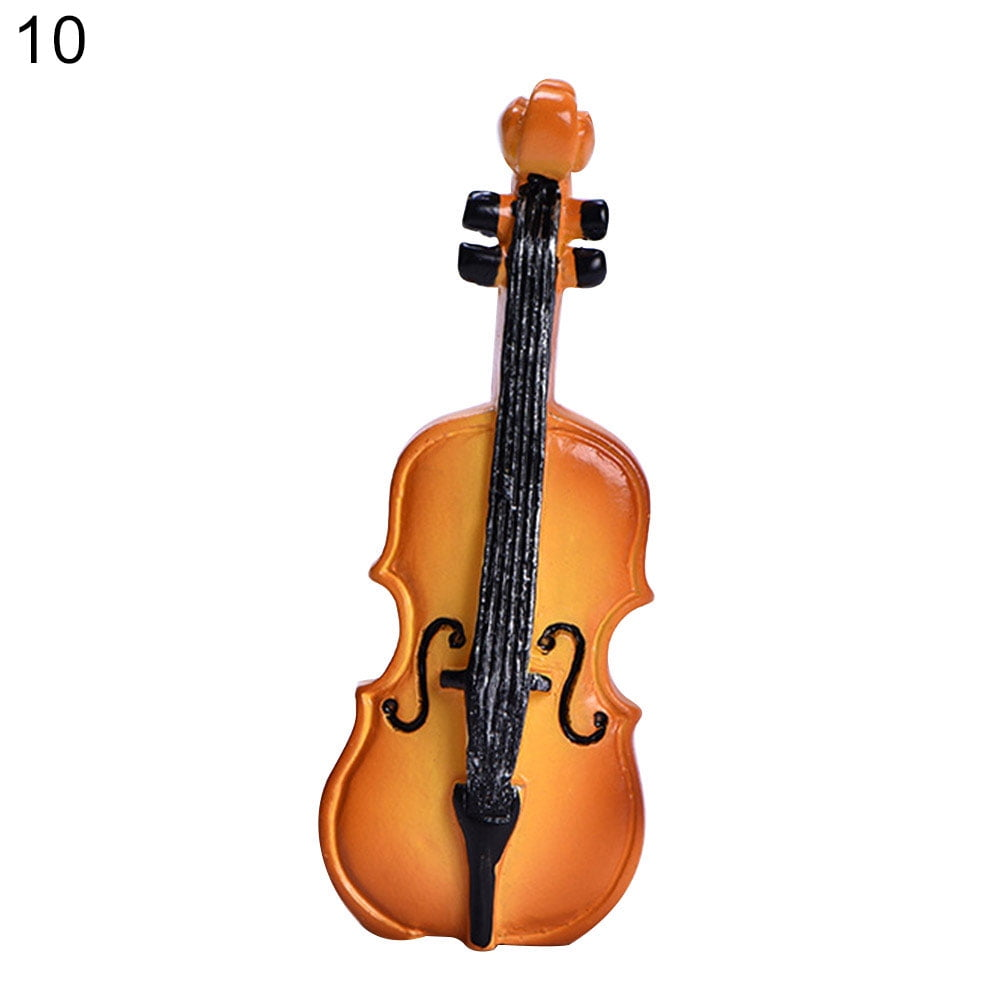Violin: (230, 78, 734, 1000)
